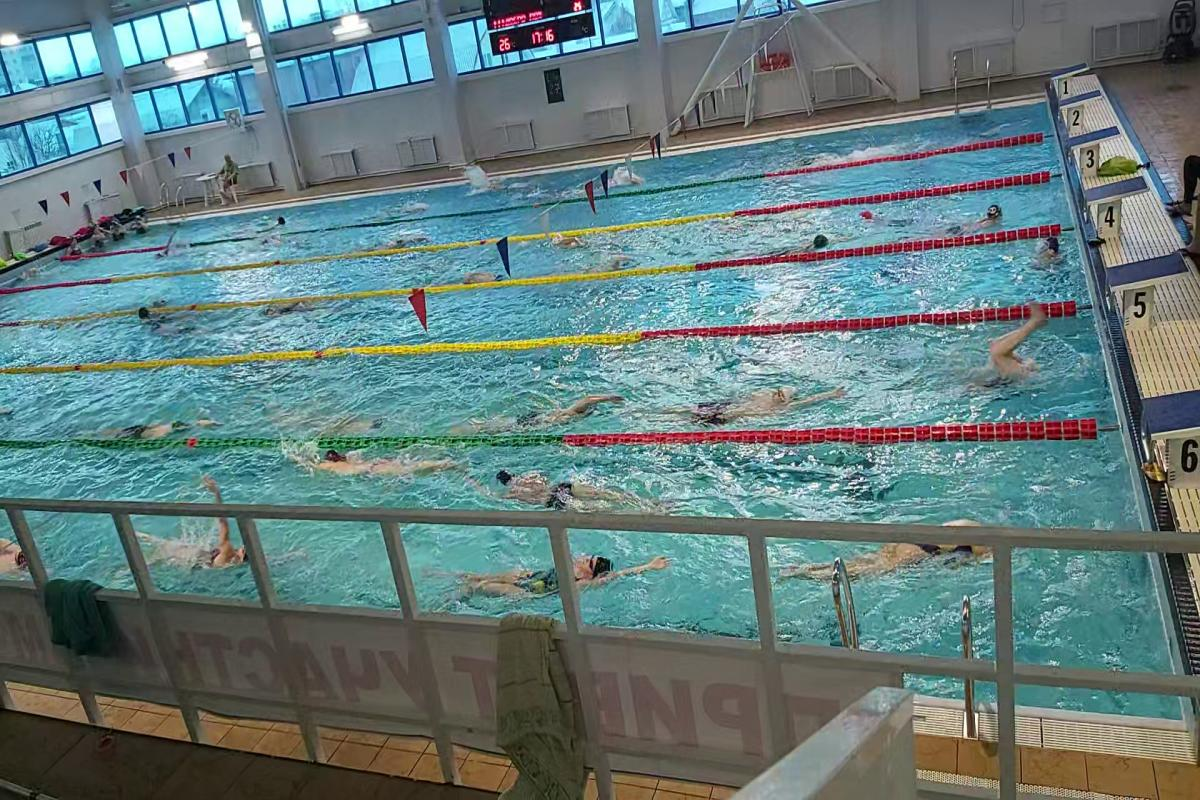swimmer: (421, 540, 671, 605), (779, 517, 1001, 583), (690, 371, 853, 424), (486, 459, 646, 512), (310, 440, 460, 490), (978, 311, 1048, 403), (141, 527, 244, 586), (500, 385, 621, 433), (87, 406, 209, 440), (938, 207, 1016, 236), (1032, 234, 1078, 272), (762, 233, 849, 252), (267, 301, 314, 320), (459, 270, 513, 283)
